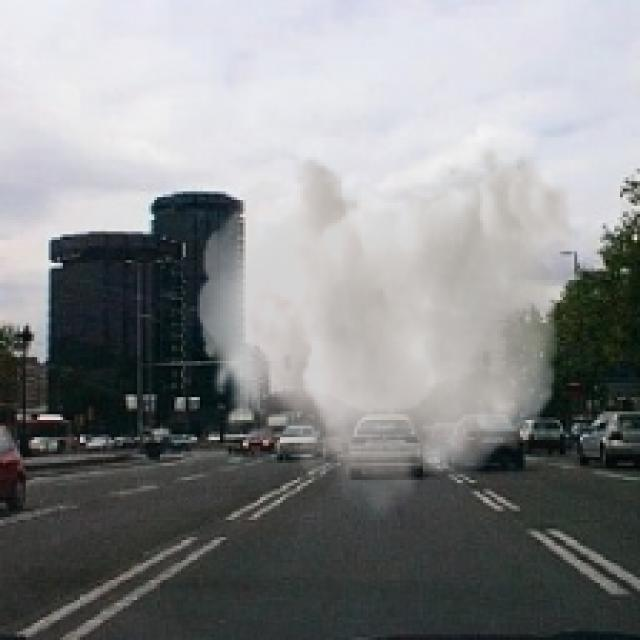Smoke: (197, 143, 574, 526)
